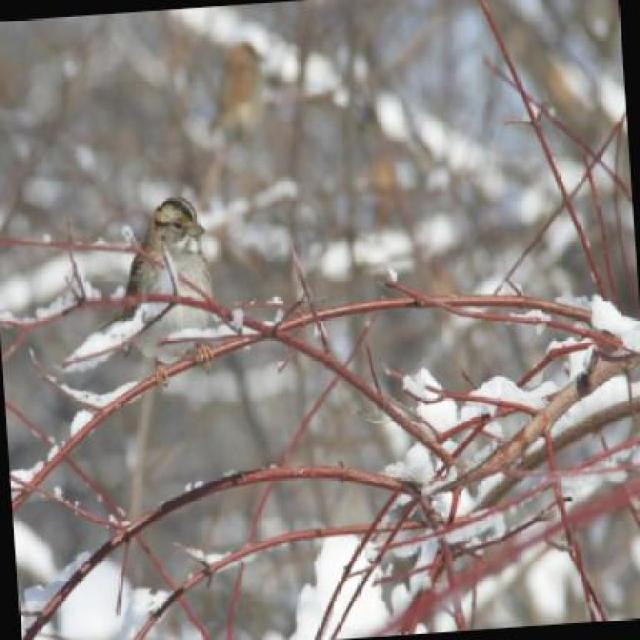Bird: (71, 192, 213, 374)
